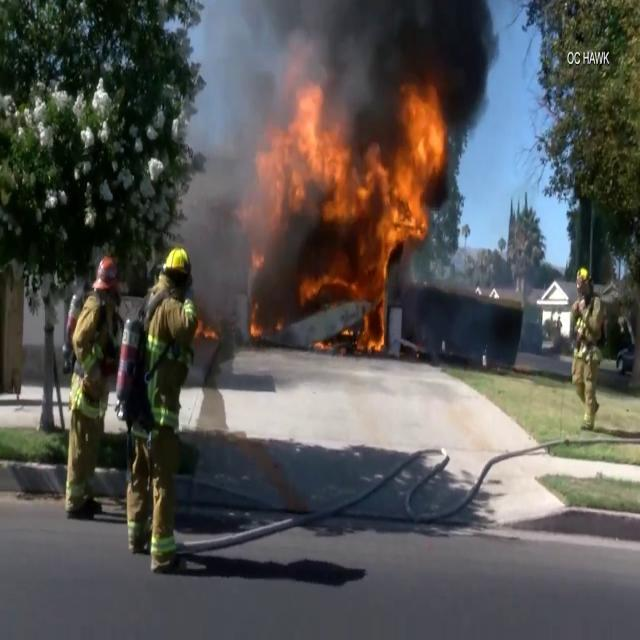Fire: (256, 73, 450, 342)
Smoke: (243, 0, 503, 137)
